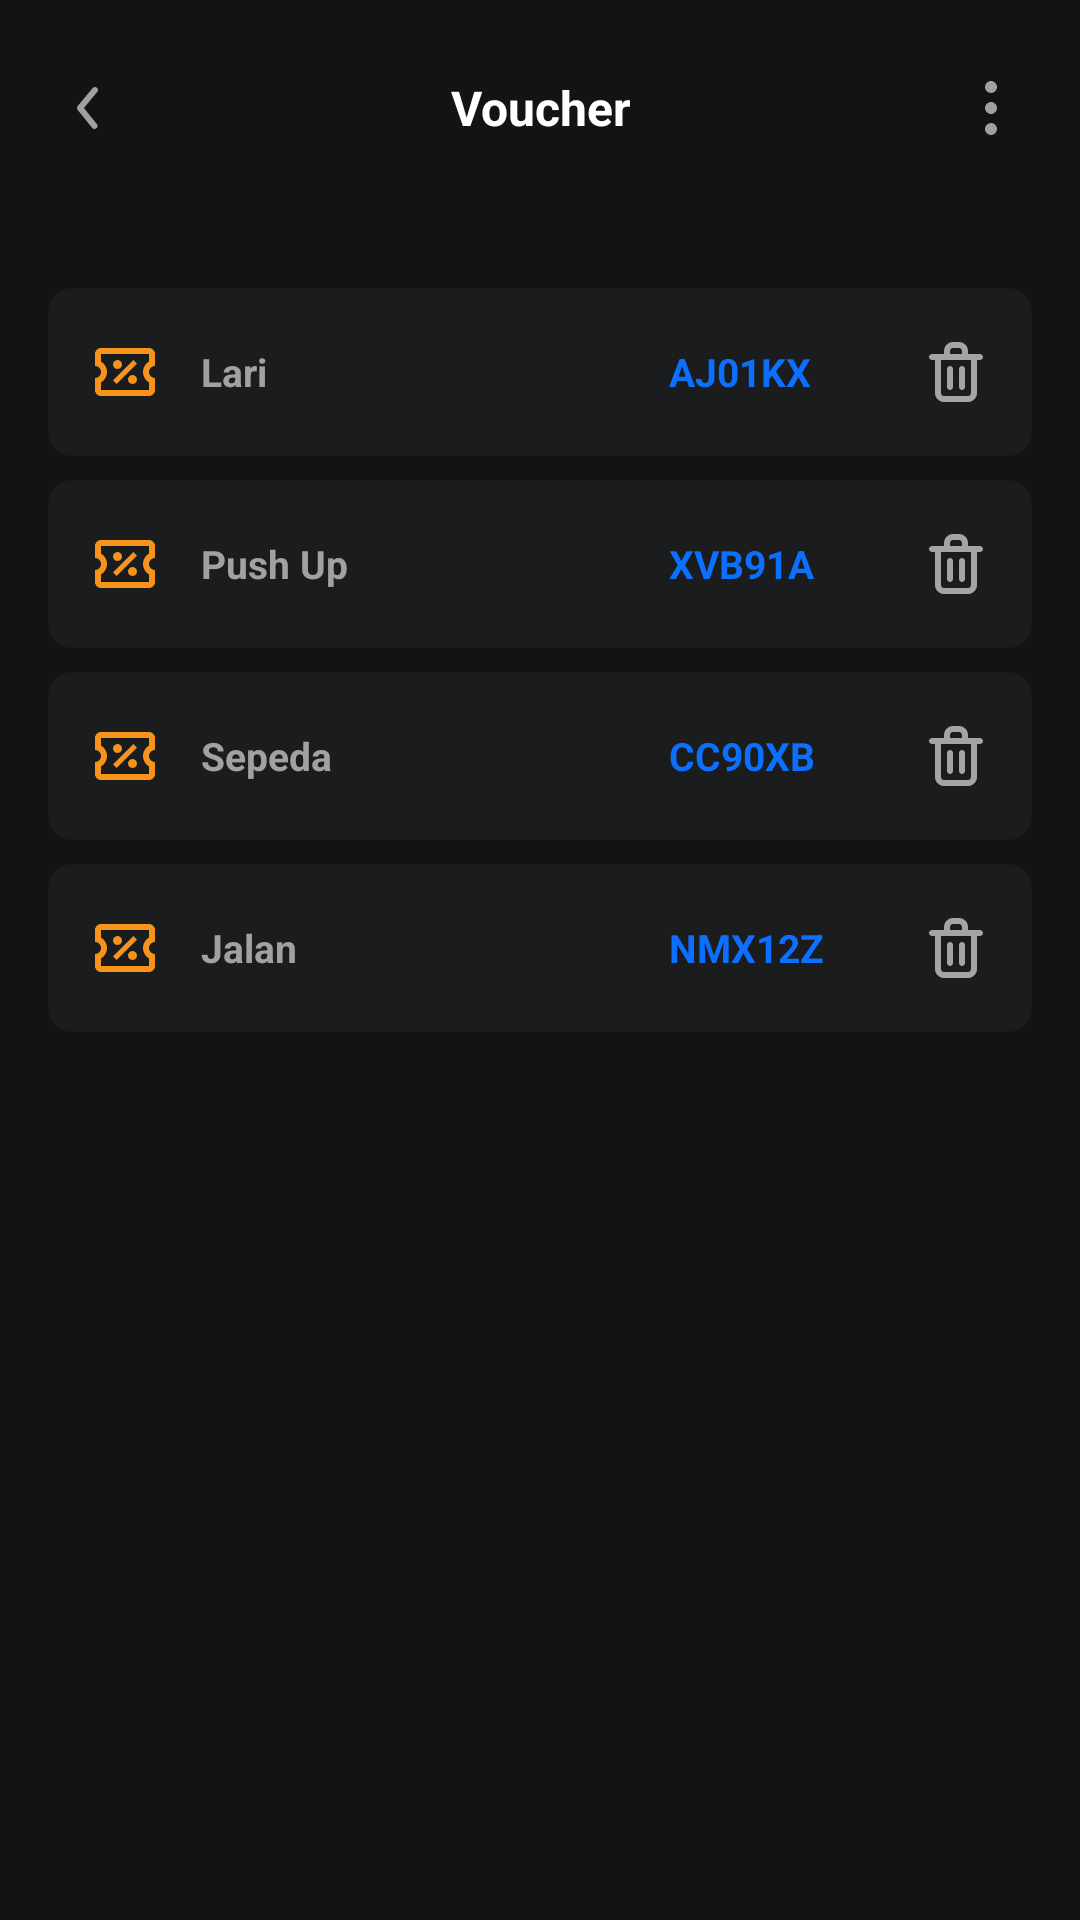

Where icons sit on this 1080 x 1920 app screen, as {"x1": x1, "y1": y1, "x2": x2, "y2": y2}:
arrow left: {"x1": 77, "y1": 87, "x2": 98, "y2": 129}
elipsis: {"x1": 985, "y1": 81, "x2": 997, "y2": 135}
trash: {"x1": 929, "y1": 342, "x2": 983, "y2": 402}, {"x1": 929, "y1": 534, "x2": 983, "y2": 594}, {"x1": 929, "y1": 726, "x2": 983, "y2": 786}, {"x1": 929, "y1": 918, "x2": 983, "y2": 978}
voucher: {"x1": 95, "y1": 348, "x2": 155, "y2": 396}, {"x1": 95, "y1": 540, "x2": 155, "y2": 588}, {"x1": 95, "y1": 732, "x2": 155, "y2": 780}, {"x1": 95, "y1": 924, "x2": 155, "y2": 972}
